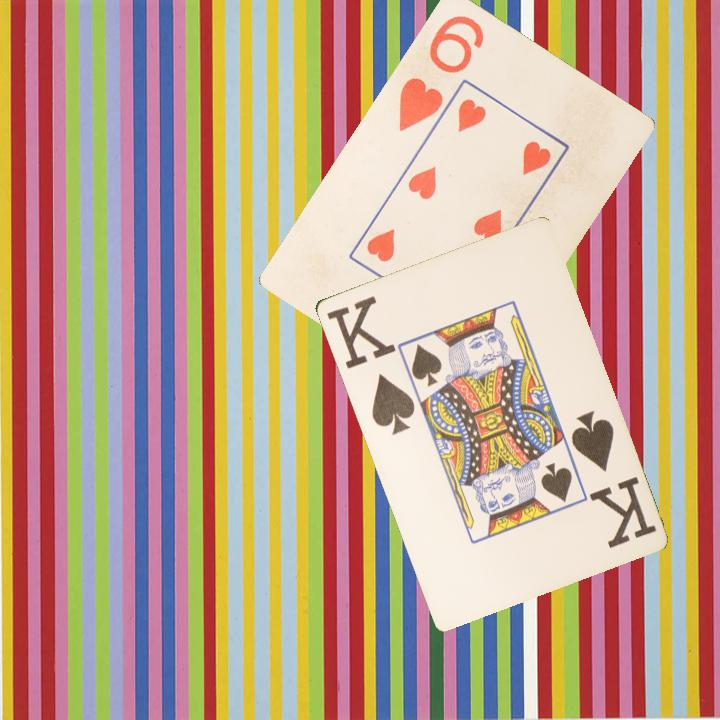6h: (394, 10, 487, 135)
Ks: (322, 292, 418, 438), (567, 406, 659, 551)
